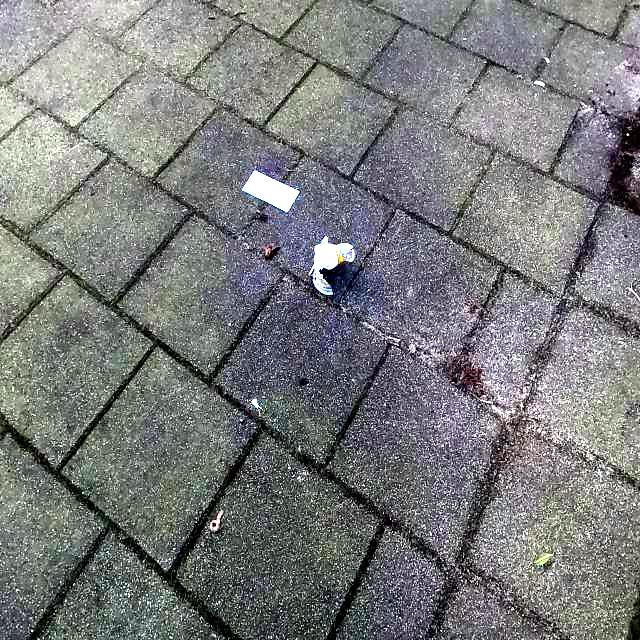Paper: (240, 168, 300, 214)
